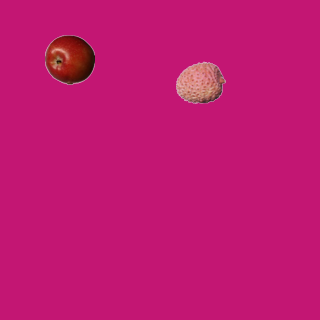Apple Braeburn: (44, 34, 94, 84)
Lychee: (175, 57, 225, 107)
